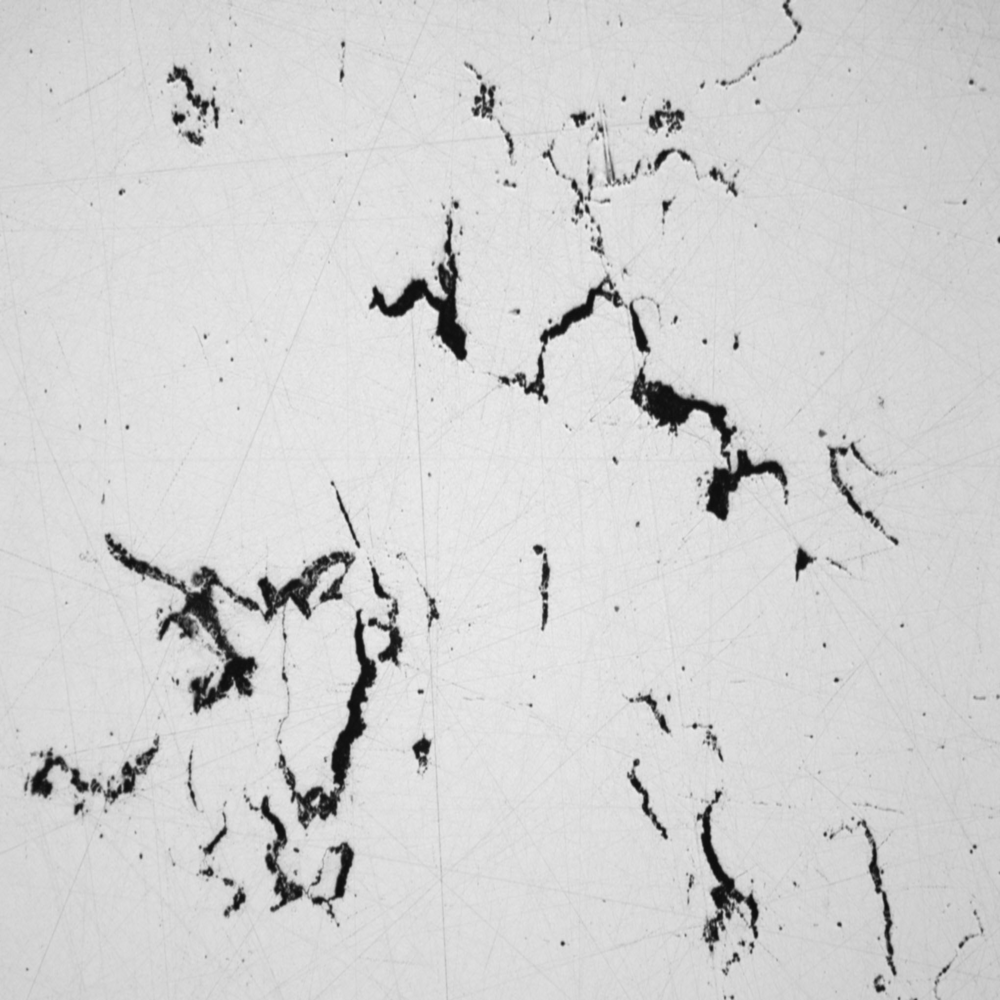crack: (334, 14, 921, 602), (1, 516, 466, 906), (608, 663, 912, 993), (128, 40, 251, 141), (506, 521, 578, 621)
